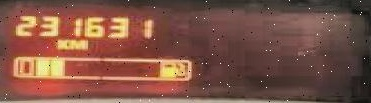1: (138, 17, 153, 38), (66, 15, 80, 36)
2: (9, 13, 33, 36)
3: (36, 13, 58, 36), (107, 16, 127, 37)
6: (82, 14, 104, 37)
X: (67, 37, 85, 48), (56, 38, 67, 49)
